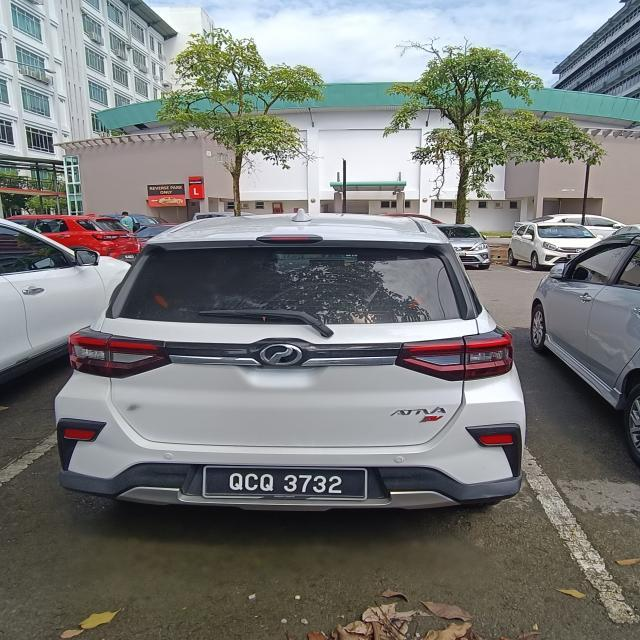PeroduaAtiva: (53, 208, 528, 512)
